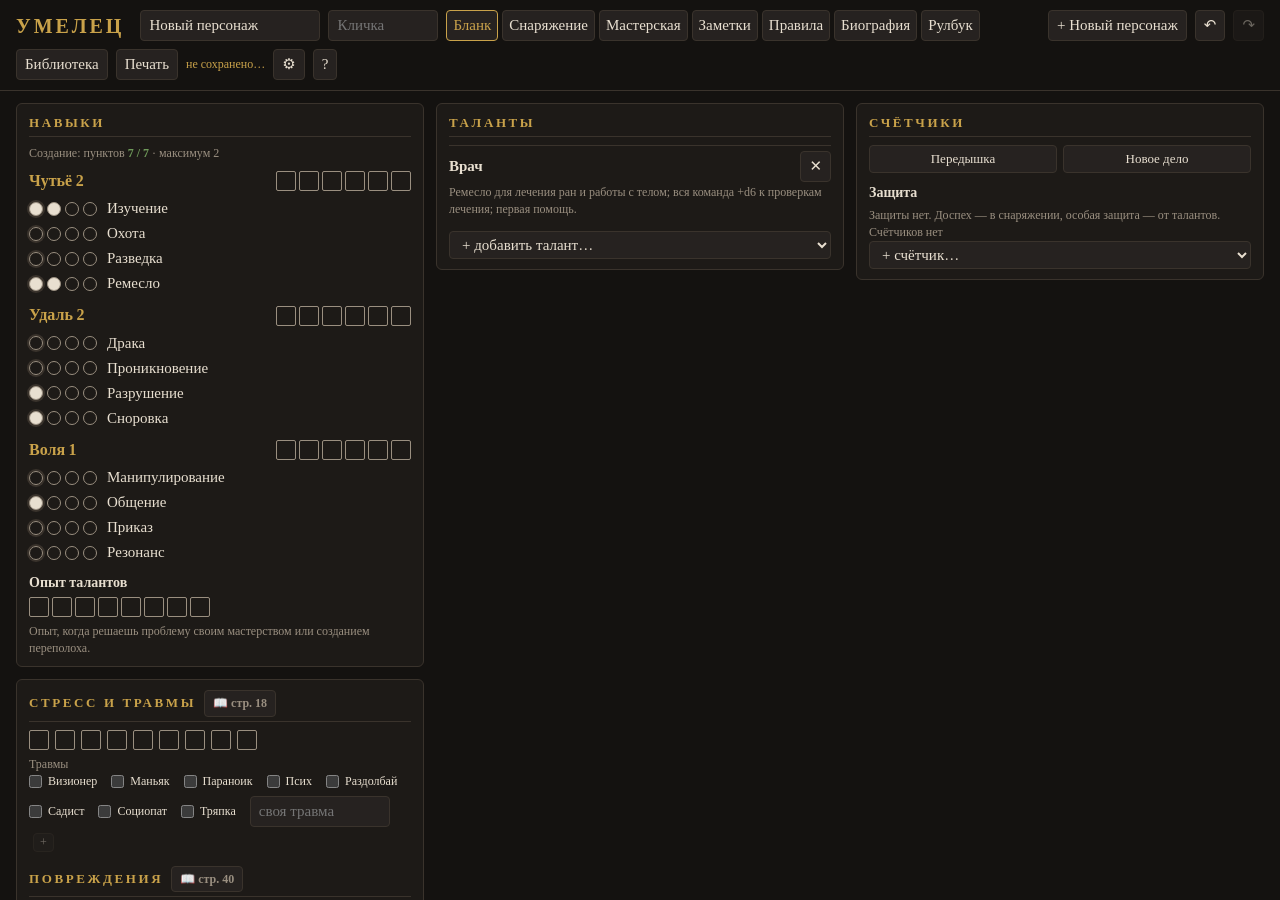
it: Снаряжение: нагрузка › house rule "load off" hides selector, count and load column; total and carried stay
Click the button "Снаряжение". click: (549, 26)
box: [502,10,595,41]
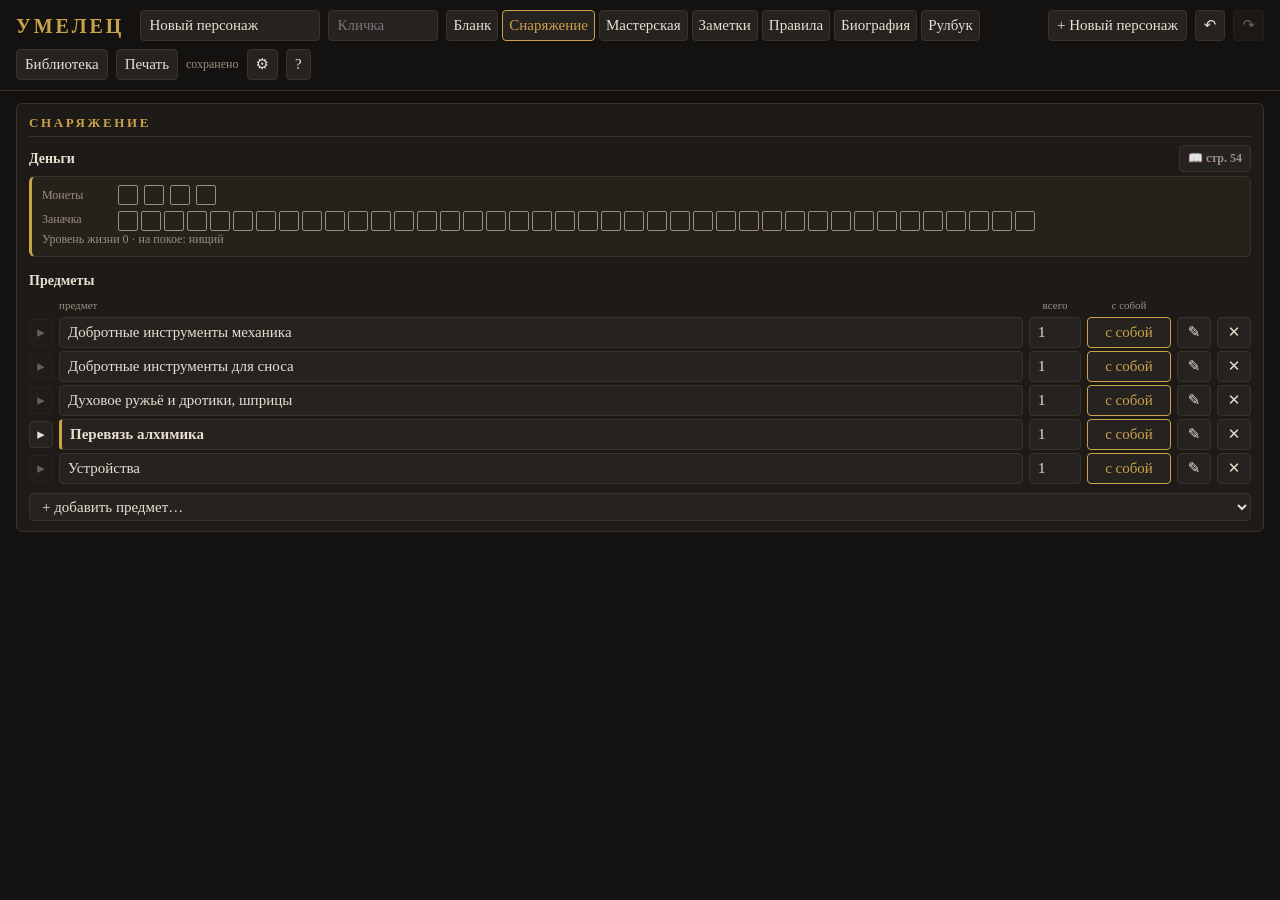
Expected: the 1st number field named "сколько всего" is shown, [1029,317,1081,348]
Now the 1st button "с собой" is shown, box [1087,317,1171,348]
